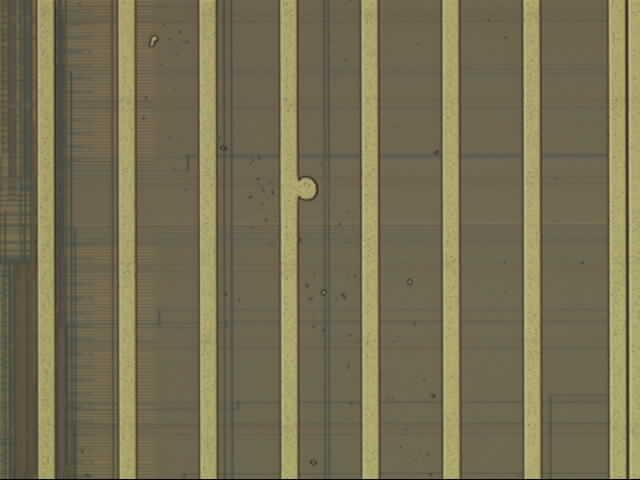BLOCK ETCH: (289, 171, 325, 207)
